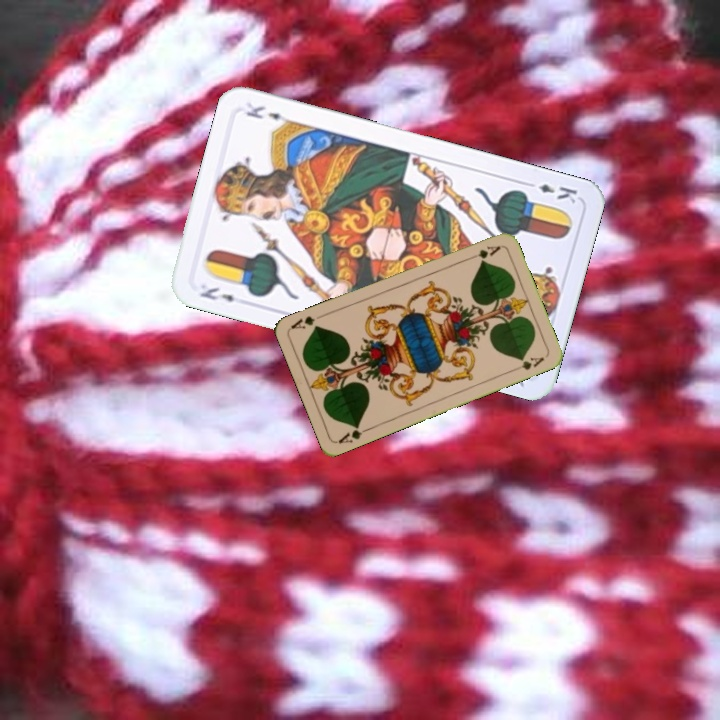EK: (521, 177, 580, 206), (196, 283, 237, 305)
GA: (334, 420, 373, 447), (464, 242, 503, 263)
